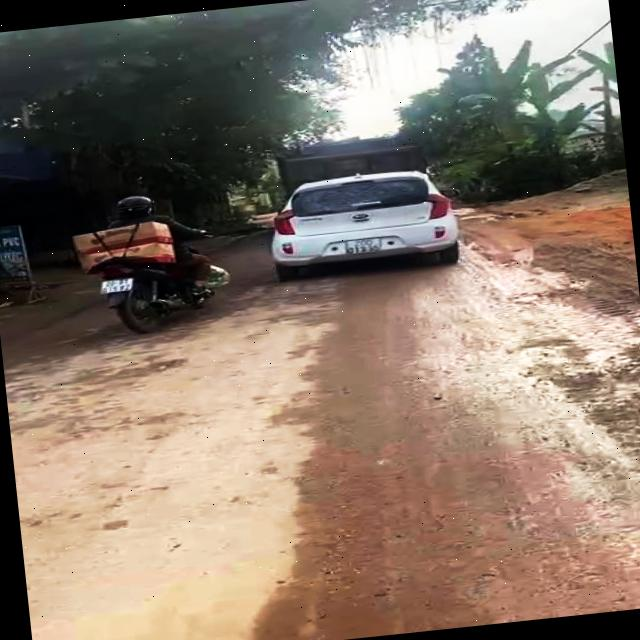pothole: (630, 356, 640, 402)
